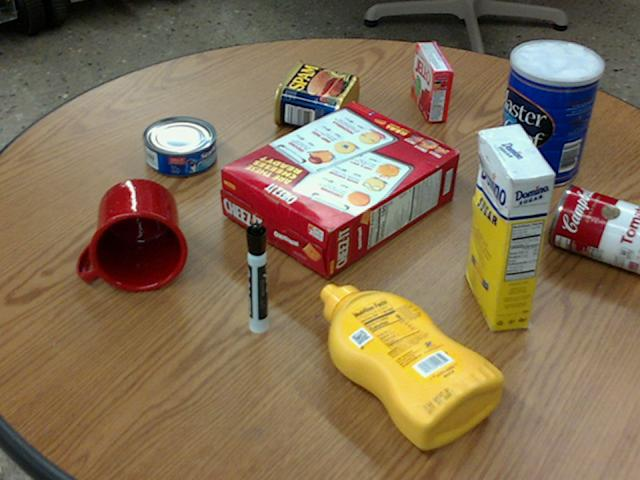cracker_box: (220, 102, 457, 278)
gelatin_box: (412, 42, 453, 121)
large_marker: (245, 221, 267, 333)
master_chef_can: (495, 40, 603, 187)
mug: (76, 178, 186, 291)
mustard_bottle: (320, 284, 502, 448)
potted_meat_can: (274, 60, 359, 132)
sugar_box: (467, 123, 553, 331)
tomato_soup_can: (549, 183, 639, 271)
tuna_fish_can: (143, 116, 216, 175)
